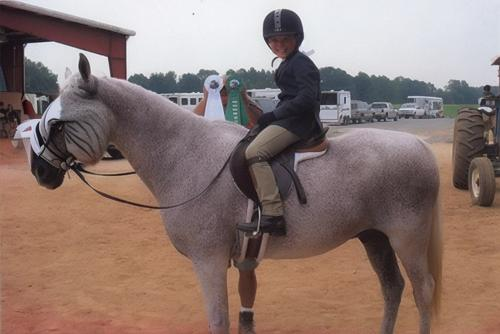car: (372, 102, 400, 123), (351, 101, 376, 124), (400, 102, 428, 119)
cat: (15, 92, 107, 169)
horse: (32, 58, 438, 334)
person: (238, 8, 330, 242)
person/foot: (236, 215, 285, 237)
person/hand: (256, 111, 275, 127)
person/head: (262, 9, 303, 55)
